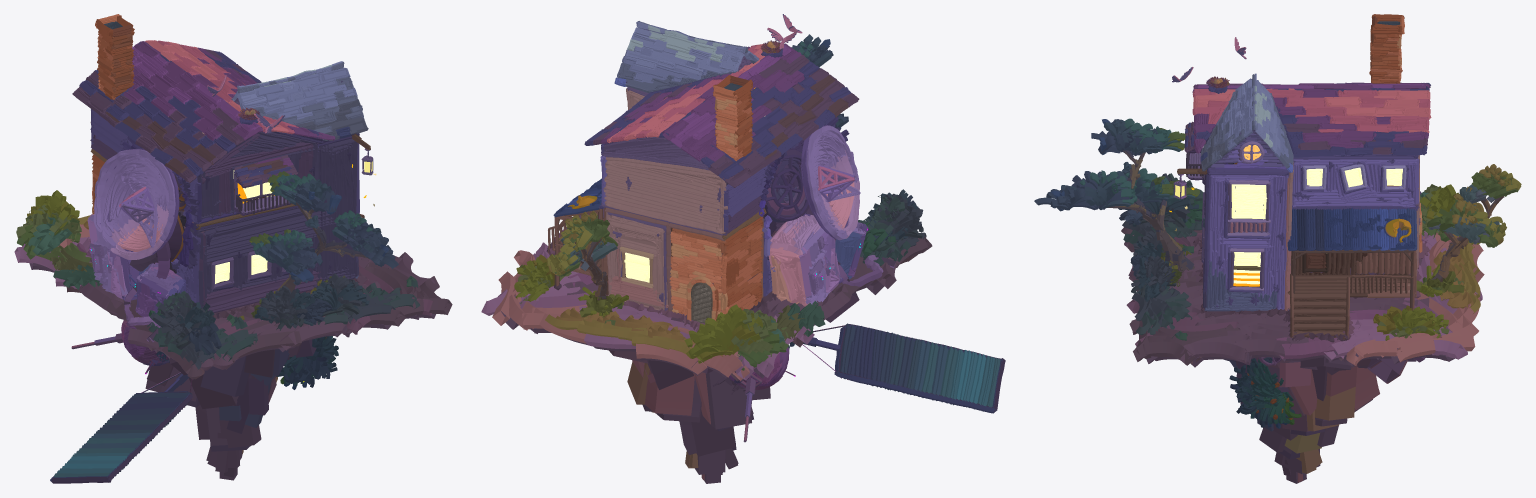
The picture shows the model from 3 angles, left to right: view 1: azimuth 30°, elevation 25°; view 2: azimuth 150°, elevation 25°; view 3: azimuth 270°, elevation 25°; orthographic projection. The views are drawn at different scales.
Parts seen in each view (by area): view 1: Group.Feather_0, Group.Feather.001_1; view 2: Group.Feather_0, Group.Feather.001_1; view 3: Group.Feather_0, Group.Feather.001_1.
Part boxes in pixels (x1,y1,x2,y2): Group.Feather_0: (14, 14, 452, 483); Group.Feather.001_1: (90, 161, 376, 382); Group.Feather_0: (481, 14, 1005, 483); Group.Feather.001_1: (624, 87, 867, 376); Group.Feather_0: (1034, 14, 1521, 483); Group.Feather.001_1: (1169, 145, 1402, 286).
Bounding box in the file's own units: 2.6 × 2.79 × 2.87.
